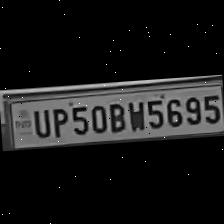0: (87, 100, 107, 132)
5: (67, 100, 90, 134), (200, 88, 220, 124), (144, 94, 164, 128)
6: (162, 93, 182, 127)
9: (180, 91, 202, 124)
B: (105, 99, 126, 133)
P: (48, 103, 68, 137)
U: (28, 104, 51, 136)
W: (124, 96, 144, 131)
